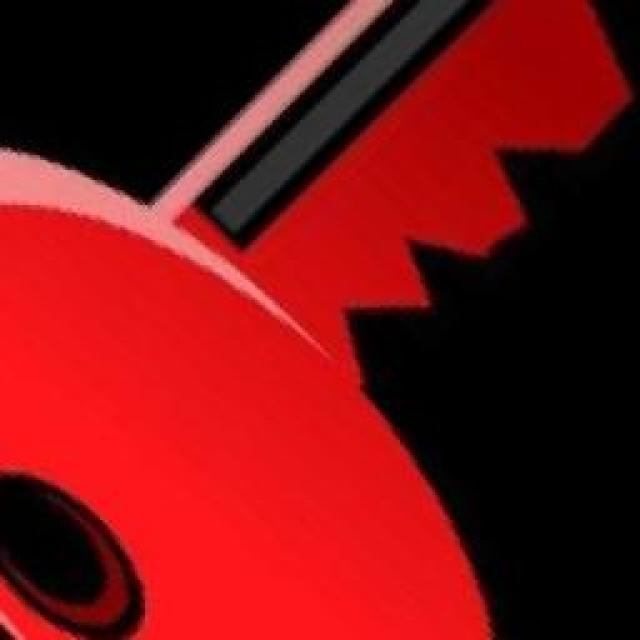anahtar: (1, 0, 632, 640)
